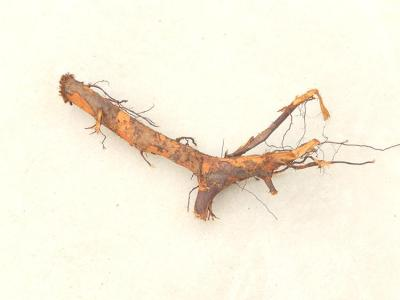Root: (59, 75, 338, 221)
